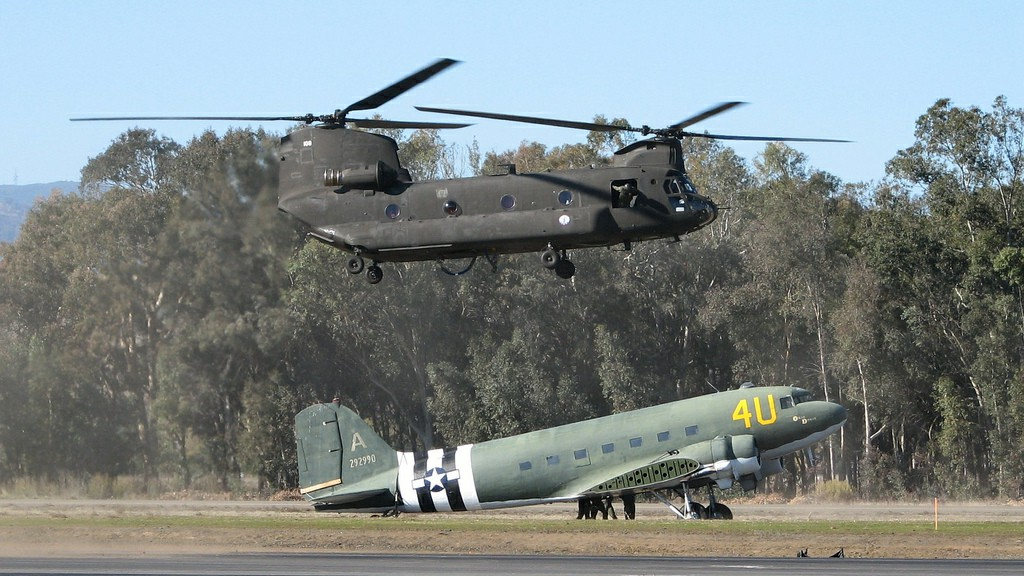chinook: (231, 58, 779, 283)
